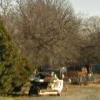Tree: (2, 0, 89, 63)
